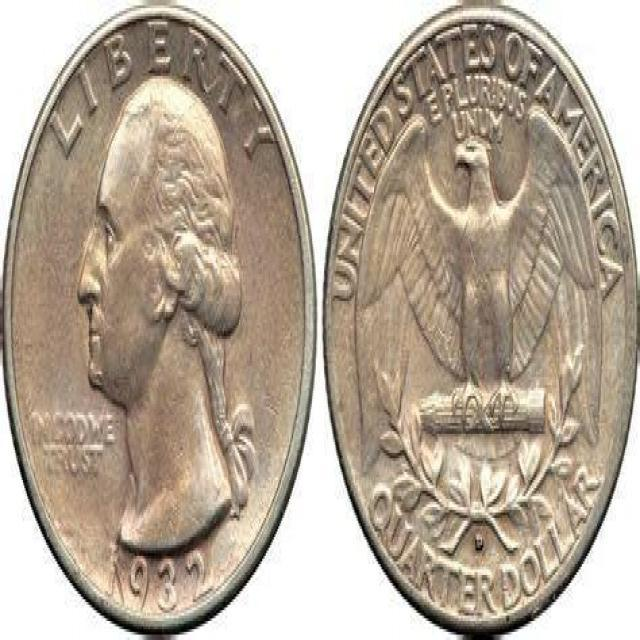Quarter: (1, 0, 319, 637), (322, 0, 638, 637)
